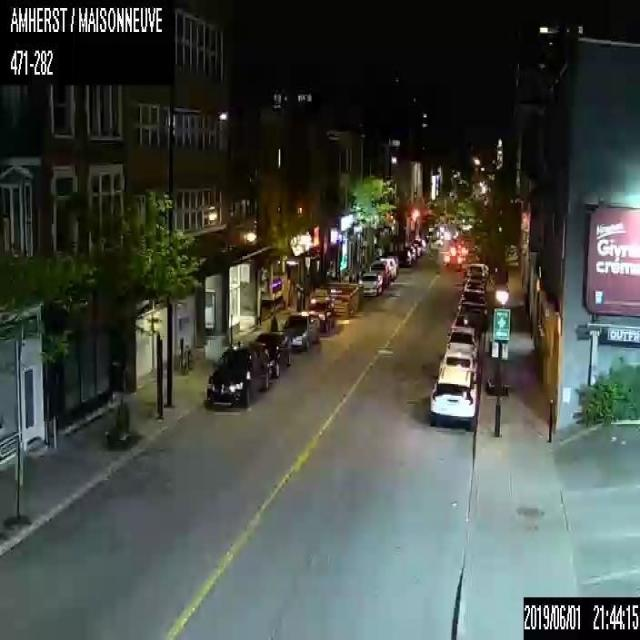pedestrian: (268, 314, 279, 329)
vehicle: (206, 339, 268, 406), (429, 365, 478, 429), (253, 330, 290, 377), (281, 311, 318, 350), (438, 348, 478, 381), (446, 326, 480, 359), (301, 299, 334, 332), (457, 292, 487, 319), (357, 272, 382, 294), (369, 261, 390, 284), (464, 274, 486, 292), (443, 248, 461, 268), (378, 258, 395, 278), (467, 262, 488, 276), (384, 254, 398, 272), (398, 249, 410, 265)
